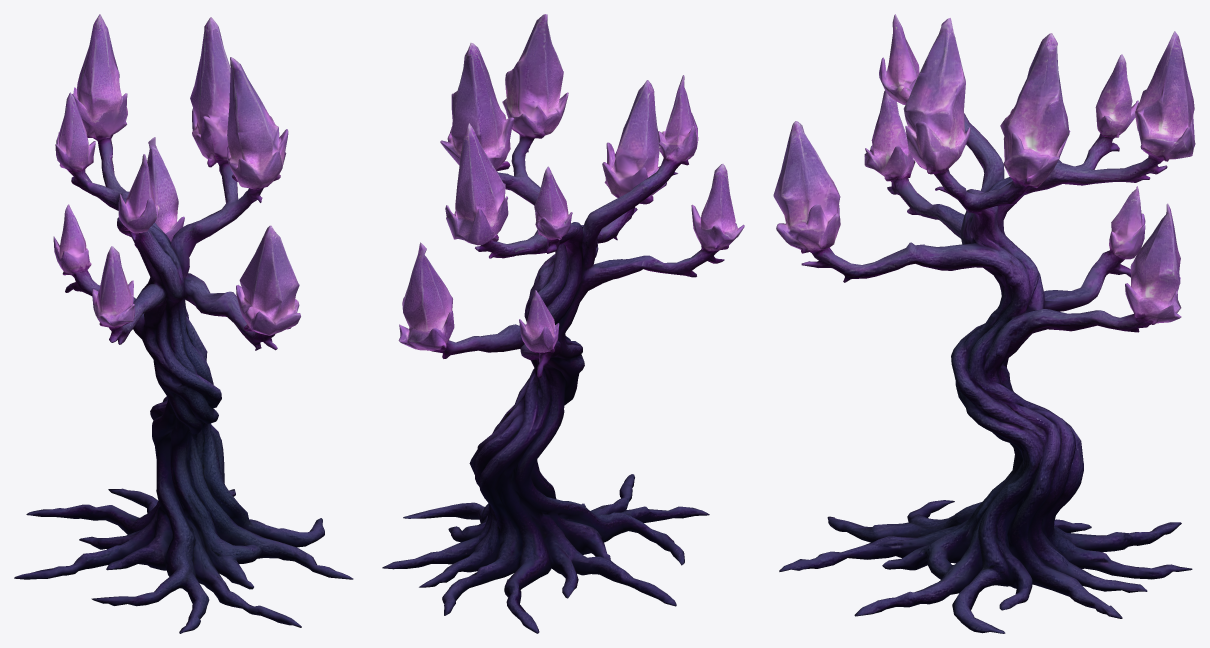
The model's file is tree_crystal.glb.
3 views of the same model, side by side, from view 1: azimuth 30°, elevation 25°; view 2: azimuth 150°, elevation 25°; view 3: azimuth 270°, elevation 25° (orthographic). The views are drawn at different scales.
Parts seen in each view (by area): view 1: tripo_node_02b2ab2a-c6d7-4855-8a16-23e0d76043ea; view 2: tripo_node_02b2ab2a-c6d7-4855-8a16-23e0d76043ea; view 3: tripo_node_02b2ab2a-c6d7-4855-8a16-23e0d76043ea.
Boxes of the visible parts, box(x1,y1,x2,y2) form: tripo_node_02b2ab2a-c6d7-4855-8a16-23e0d76043ea: box(14, 14, 353, 633); tripo_node_02b2ab2a-c6d7-4855-8a16-23e0d76043ea: box(382, 14, 744, 633); tripo_node_02b2ab2a-c6d7-4855-8a16-23e0d76043ea: box(773, 14, 1195, 633).
Bounding box in the file's own units: 0.5905 × 0.9998 × 0.6838.
Materials: 1 (1 with a texture image).
